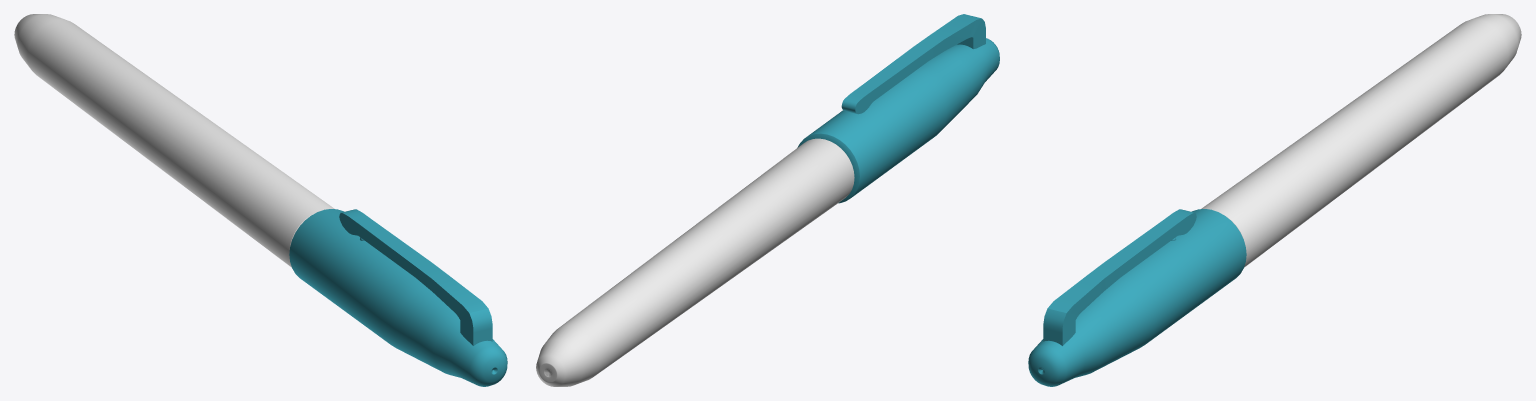
Rendered from Sharpie 3D model 3.fbx.
3 views of the same model, side by side, from view 1: azimuth 30°, elevation 25°; view 2: azimuth 150°, elevation 25°; view 3: azimuth 330°, elevation 25° (orthographic). The views are drawn at different scales.
Visible parts, largest first — view 1: Cylinder, Cylinder.002, Cube.003; view 2: Cylinder, Cylinder.002, Cube.003; view 3: Cylinder, Cylinder.002, Cube.003.
Part boxes in pixels (box(x1,y1,x2,y2)): Cylinder: box(14, 14, 334, 267); Cylinder.002: box(289, 209, 507, 386); Cube.003: box(339, 209, 492, 345); Cylinder: box(536, 138, 854, 386); Cylinder.002: box(797, 38, 999, 203); Cube.003: box(841, 14, 985, 114); Cylinder: box(1201, 14, 1521, 267); Cylinder.002: box(1028, 209, 1246, 386); Cube.003: box(1043, 209, 1196, 345).
Size of the model in its own units: 1.21 by 1.51 by 14.
